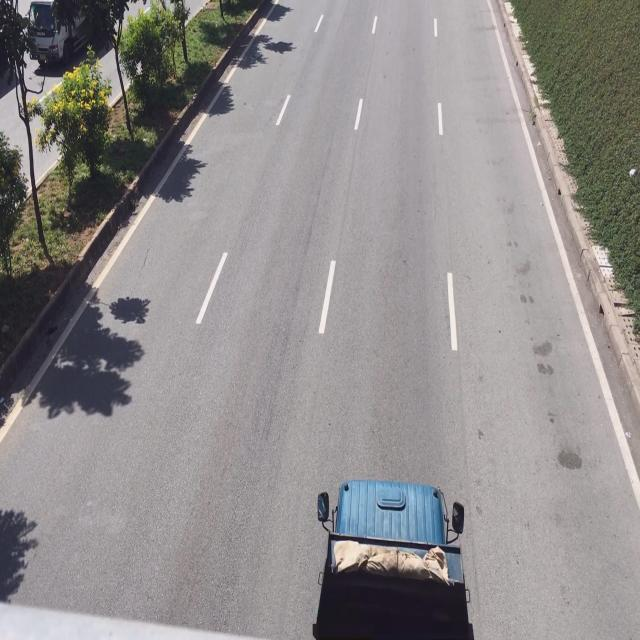truck: (312, 473, 477, 640)
